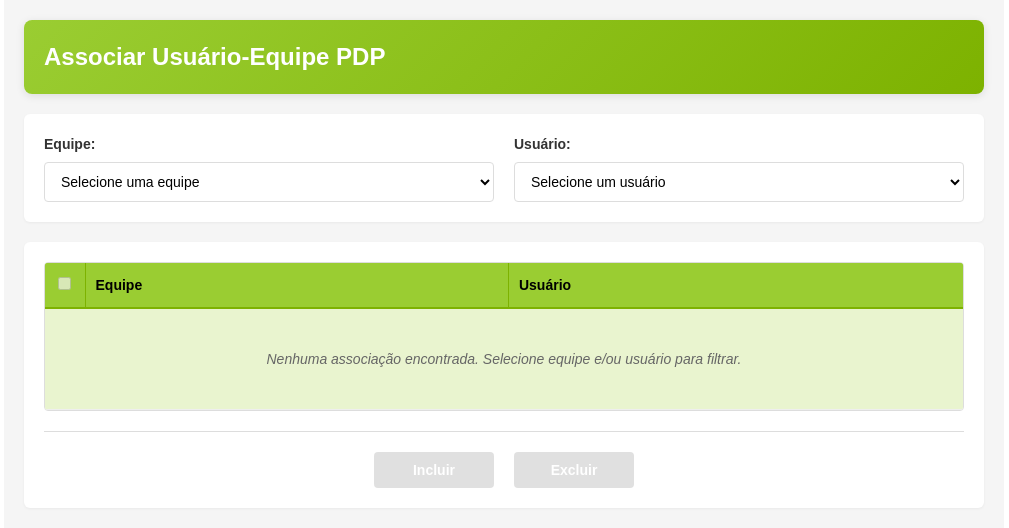
Test case: UserTeamAssociation Component › Inclusão de Associação › deve habilitar botão Incluir ao selecionar equipe e usuário sem associações
The width and height of the screenshot is (1009, 528).
Step 1. Select "EQUIPE ALPHA" in the dropdown with test id "equipe-select" → (269, 182), box [44, 162, 494, 202]
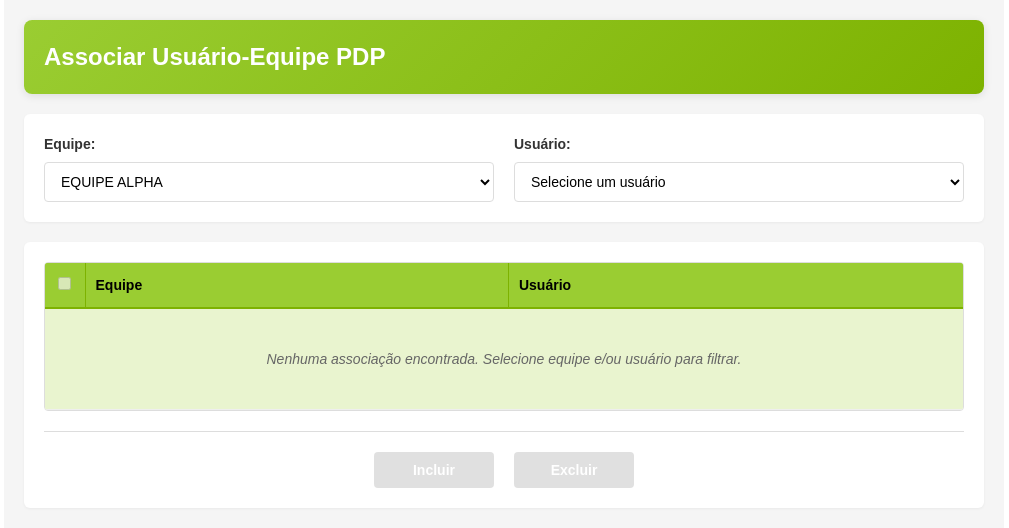
Step 2. Select "JOÃO SILVA" in the dropdown with test id "usuario-select" → (739, 182), box [514, 162, 964, 202]
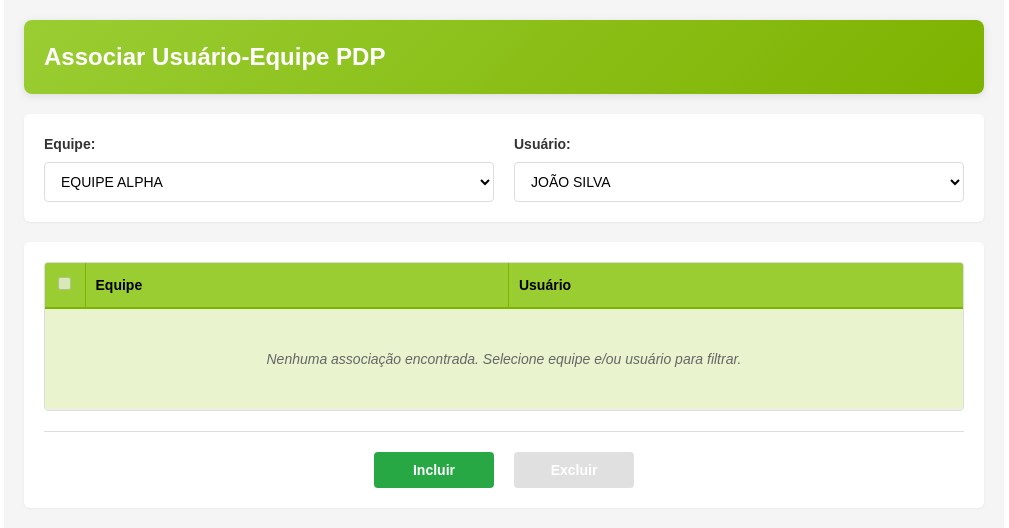
Expected: the button with test id "incluir-btn" is enabled, [374, 452, 494, 488]
